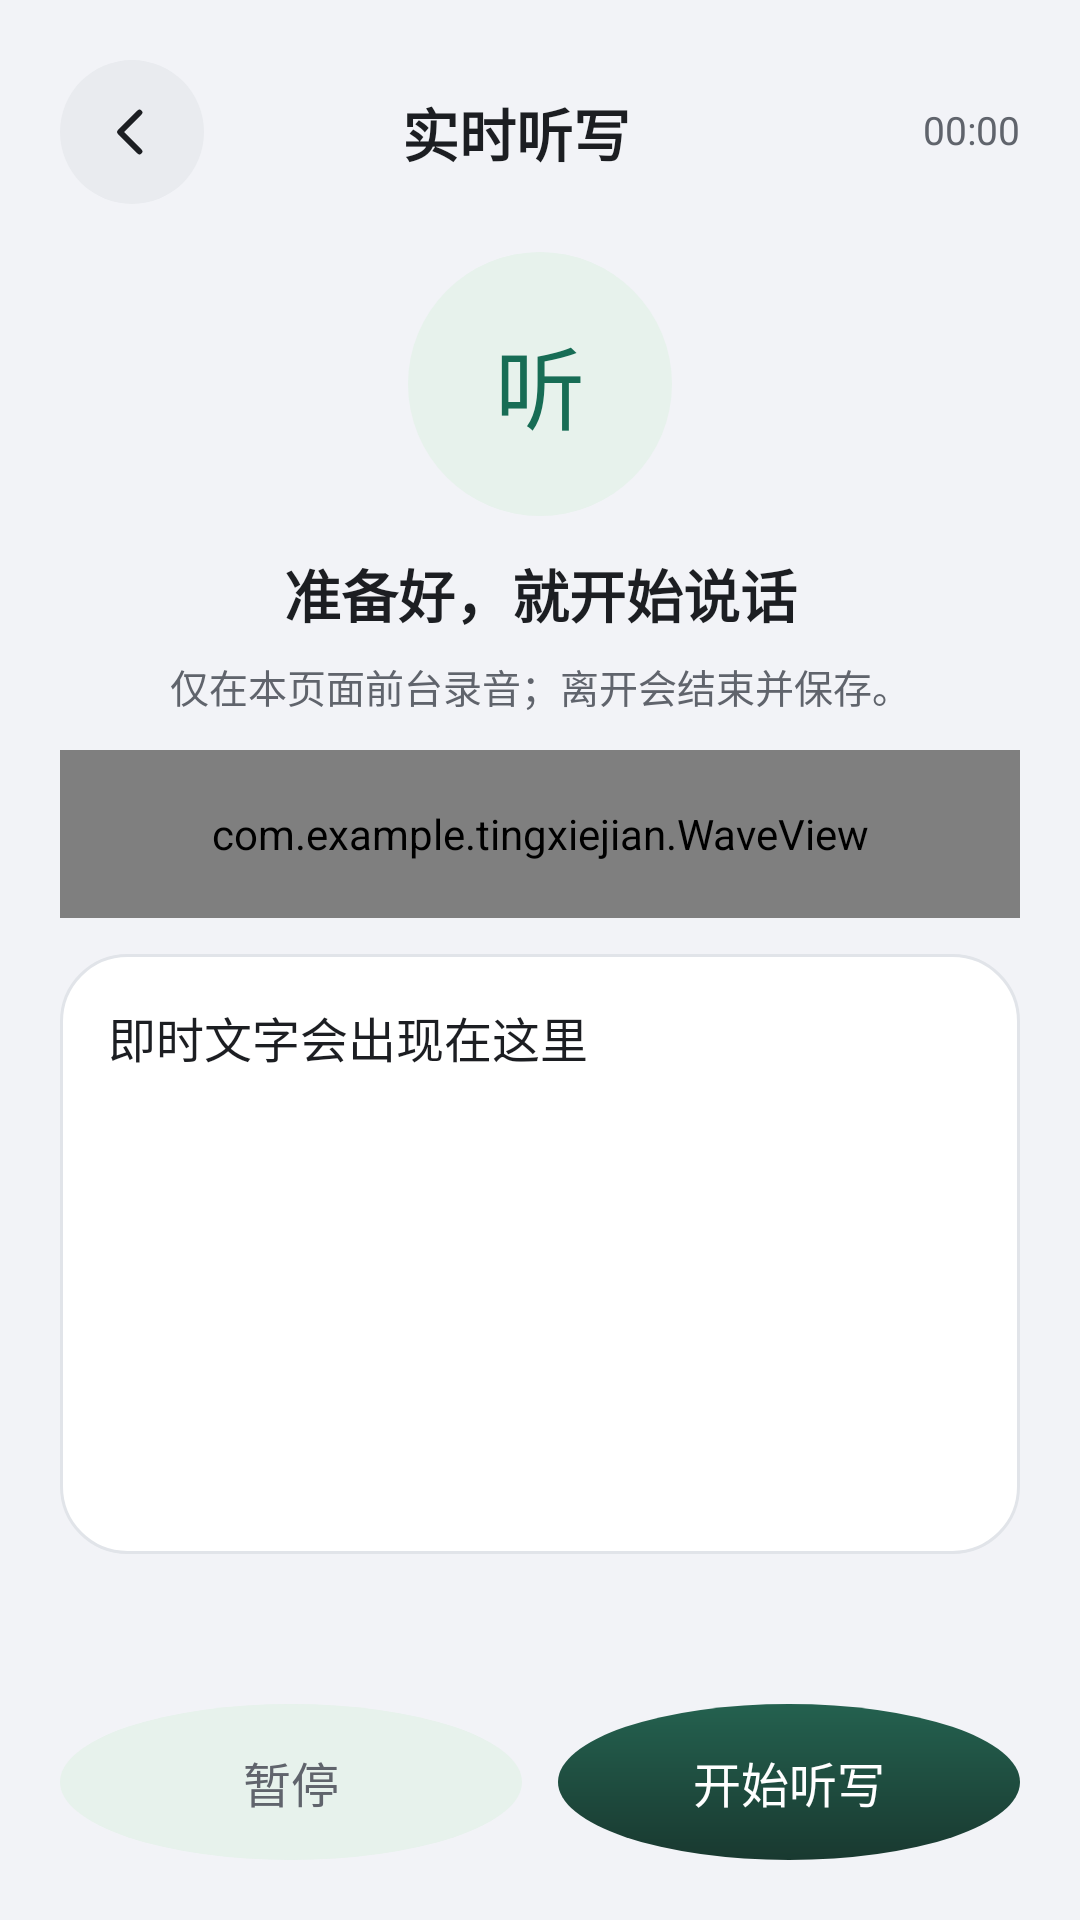

Icons on this 1080 x 1920 Android screen, each with the point to tap as point (x, y):
返回并结束听写: point (132, 132)
